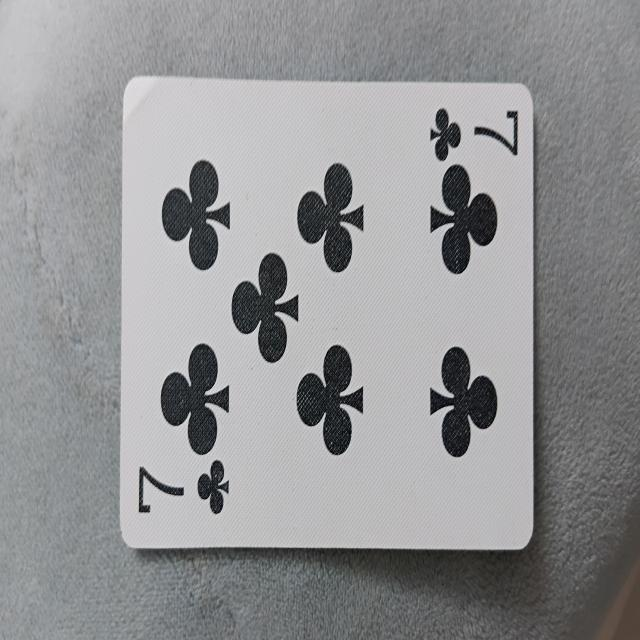7C: (116, 78, 535, 564)
